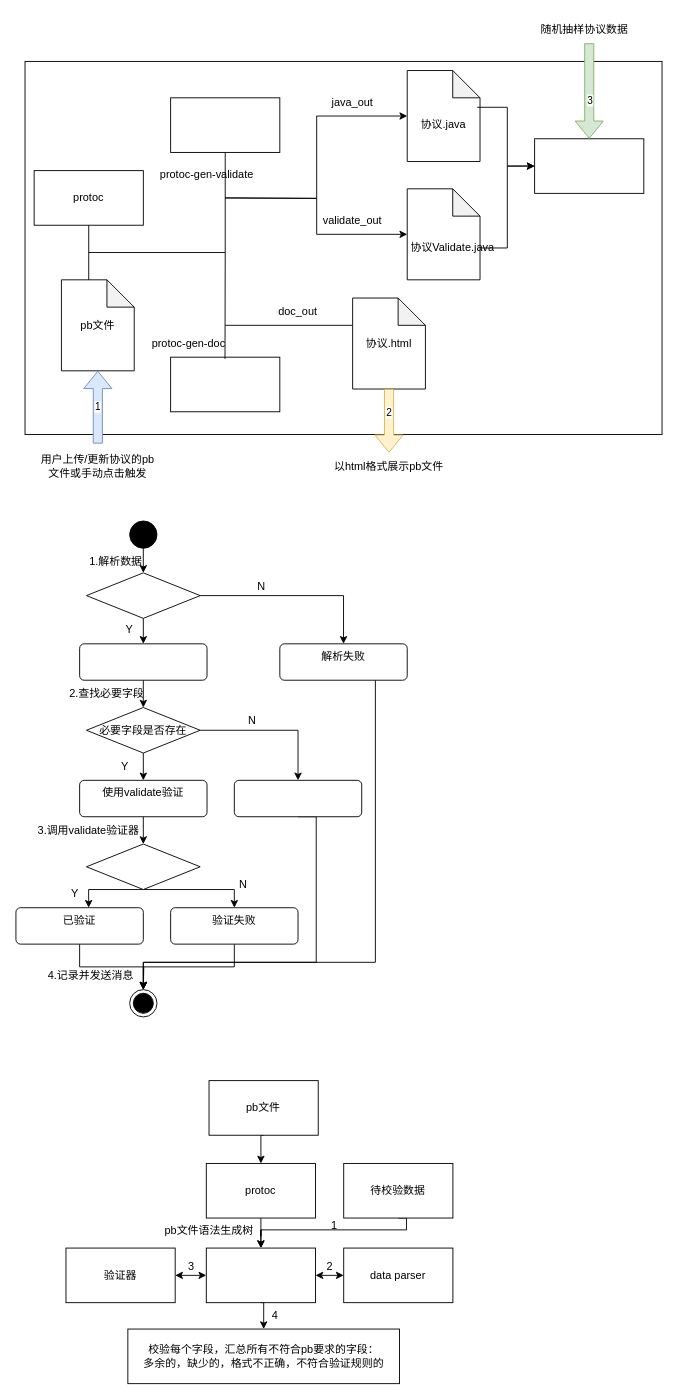
Image size: 678x1400. Some labels were removed from this diagram. Here are the shapes that lost their labels. From the top down, the centre of each, then its label:
the point at 225,124: protoc-gen-validate仓库
the point at 589,165: 校验
the point at 225,384: protoc-gen-doc仓库
the point at 143,595: 是否解析成功
the point at 143,661: 已解析
the point at 297,798: 字段缺失
the point at 143,866: 是否验证通过
the point at 260,1275: protoc--gen-validateplus
